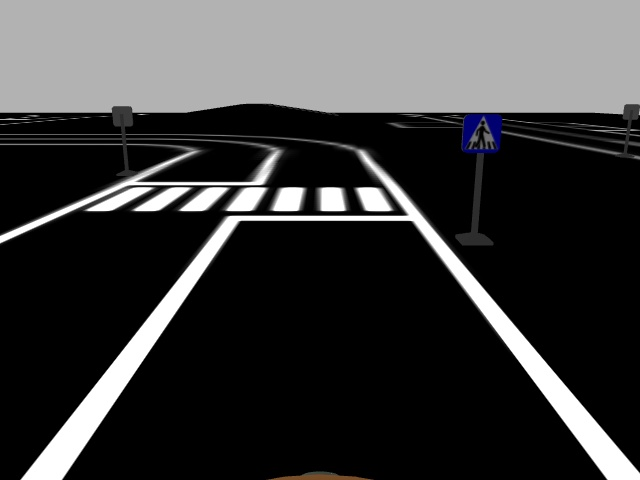crosswalk: (460, 110, 504, 157)
